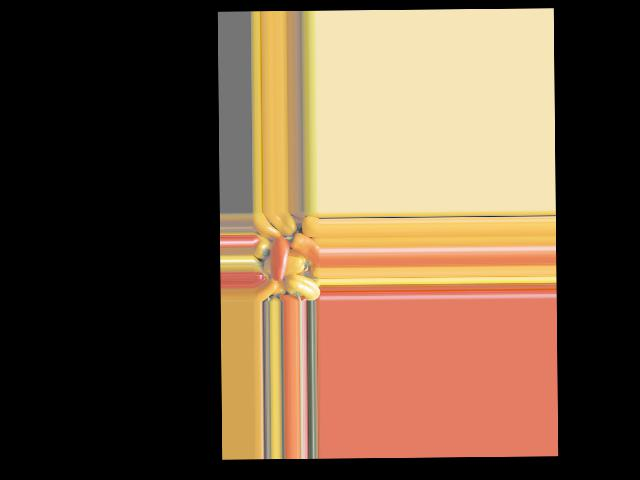bell_pepper: (288, 272, 319, 301)
